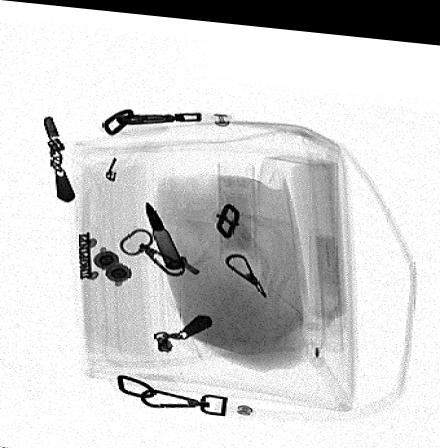Bullet: (145, 197, 184, 266)
